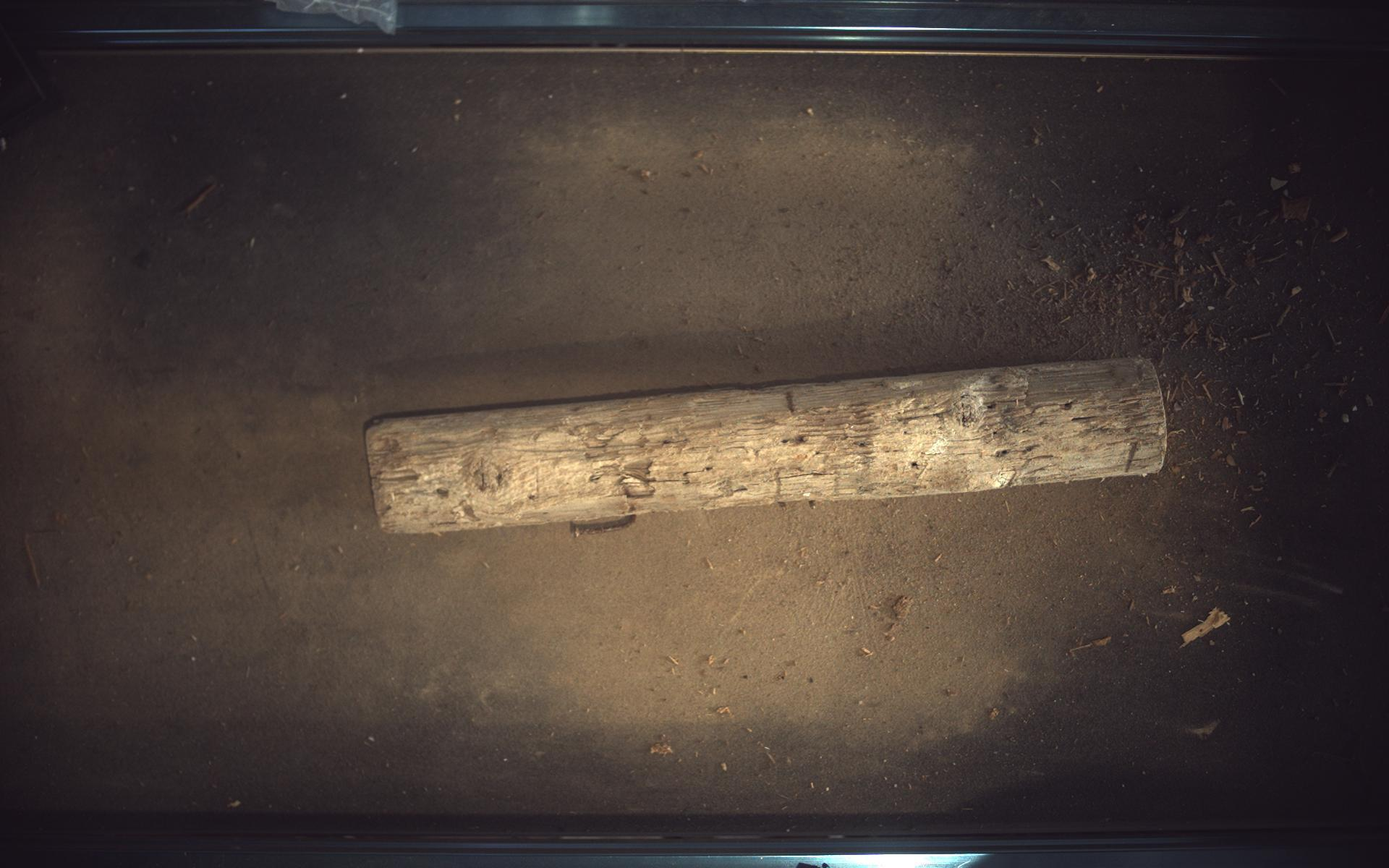wood: (365, 358, 1170, 534)
